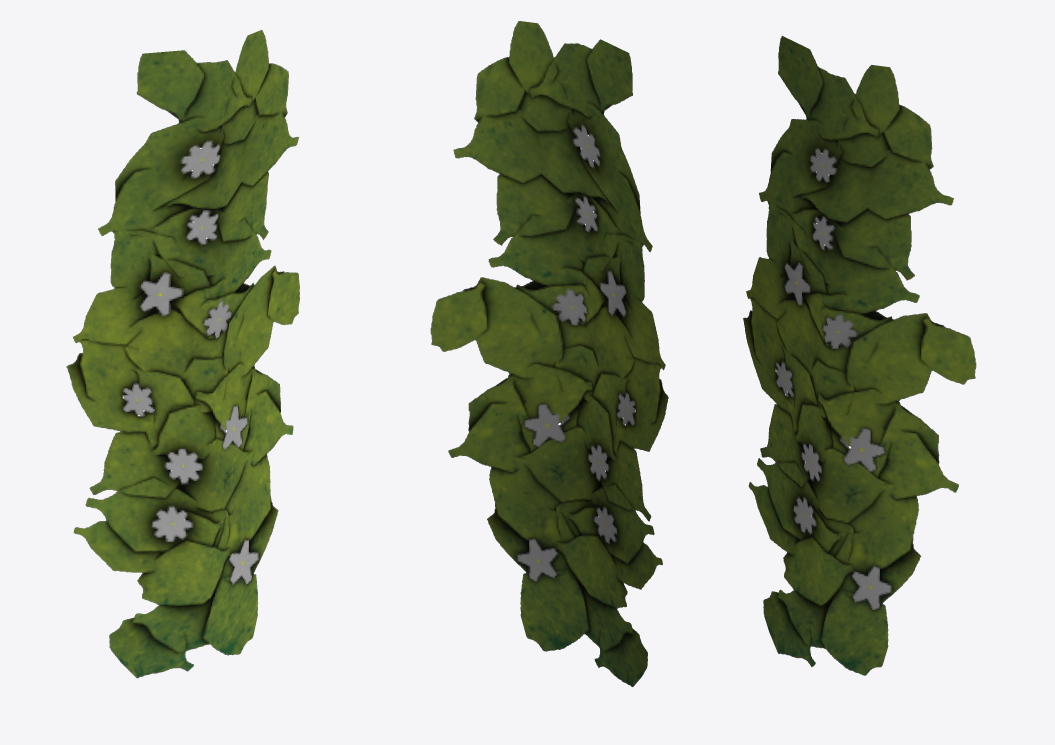
The model's file is Flowers_Bush_08.fbx.
3 renders of one model, left to right at view 1: azimuth 30°, elevation 25°; view 2: azimuth 150°, elevation 25°; view 3: azimuth 330°, elevation 25°, orthographic. The views are drawn at different scales.
Parts seen in each view (by area): view 1: Flowers_Bush_08; view 2: Flowers_Bush_08; view 3: Flowers_Bush_08.
Part boxes in pixels (x1,y1,x2,y2): Flowers_Bush_08: (66, 30, 299, 678); Flowers_Bush_08: (430, 21, 668, 686); Flowers_Bush_08: (743, 36, 976, 675).
Bounding box in the file's own units: 1.5 × 2.99 × 0.3662.
